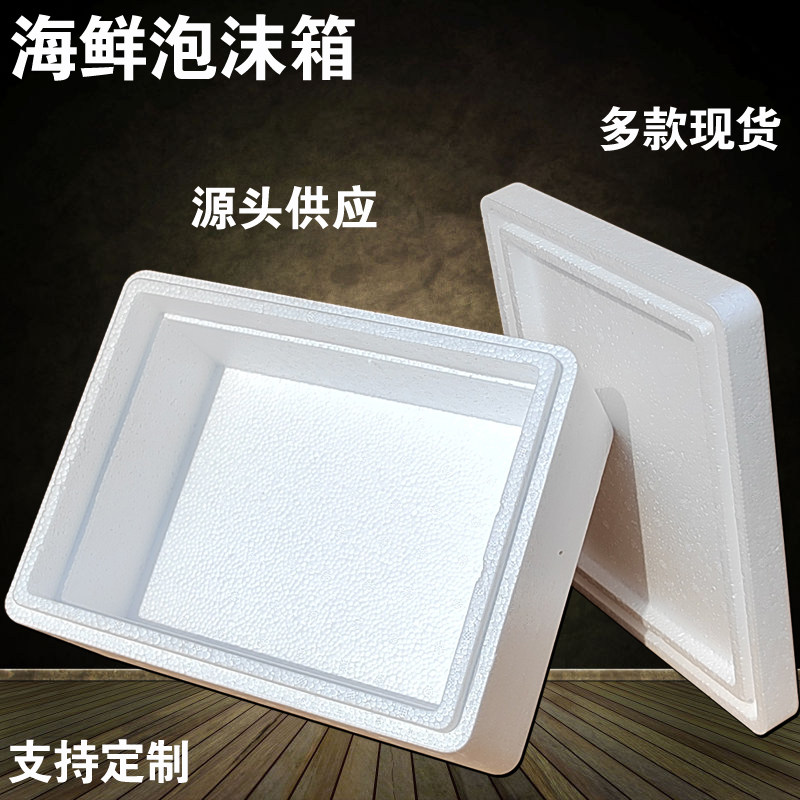泡沫箱: (6, 272, 611, 774)
